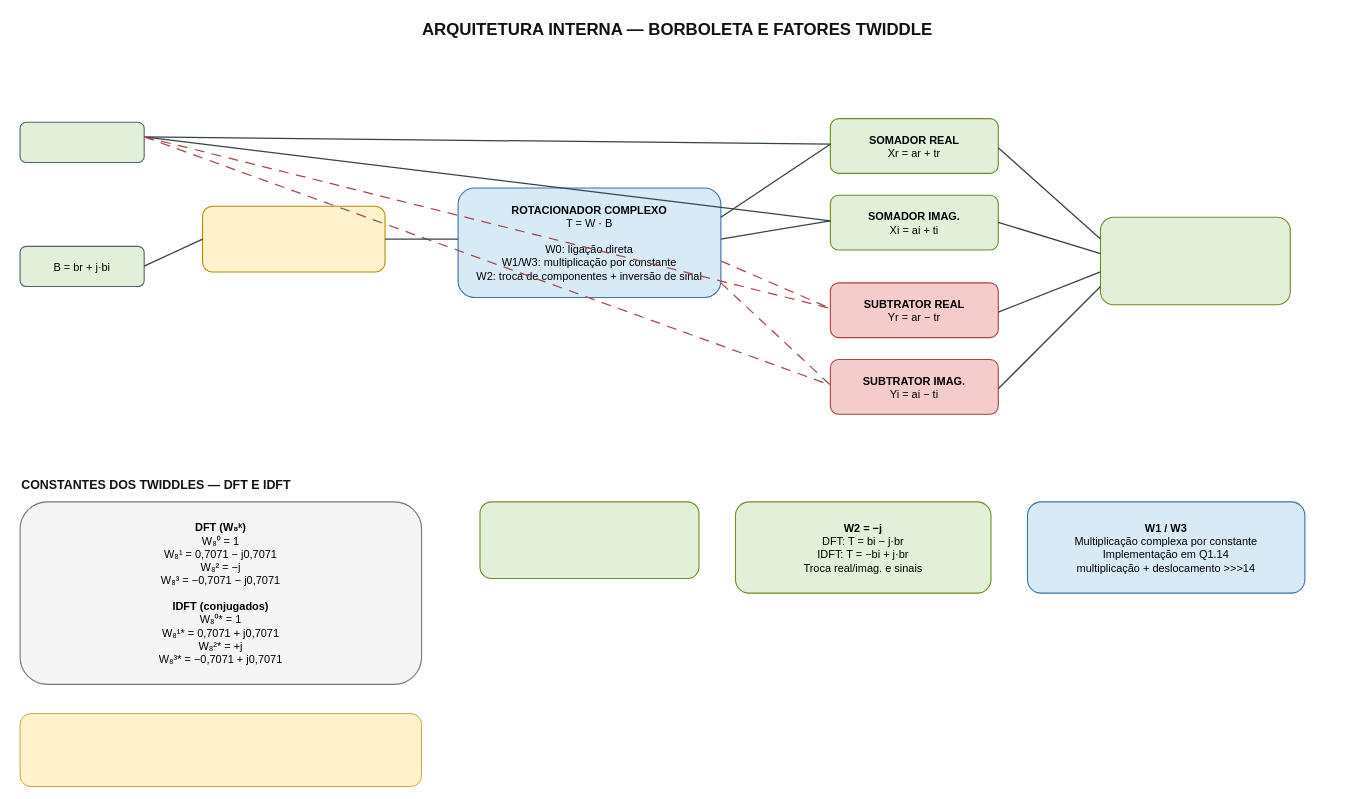
Some shapes in this 1353 by 799 pixel diagram are drawn without their labels. The box of each missing label's shape, as (x1, y1, x2, y2) in pixels:
A = ar + j·ai: (19, 121, 144, 163)
Nota de implementação: os coeficientes 0,7071 são aproximados em Q1.14 (±11585).: (19, 713, 422, 787)
SAÍDAS COMPLEXAS X = Xr + j·Xi Y = Yr + j·Yi: (1100, 216, 1290, 305)
SELEÇÃO DO TWIDDLE W₈⁰ / W₈¹ / W₈² / W₈³: (202, 205, 385, 272)
W0 = 1 T = B Sem multiplicador: fios diretos: (479, 501, 699, 579)
